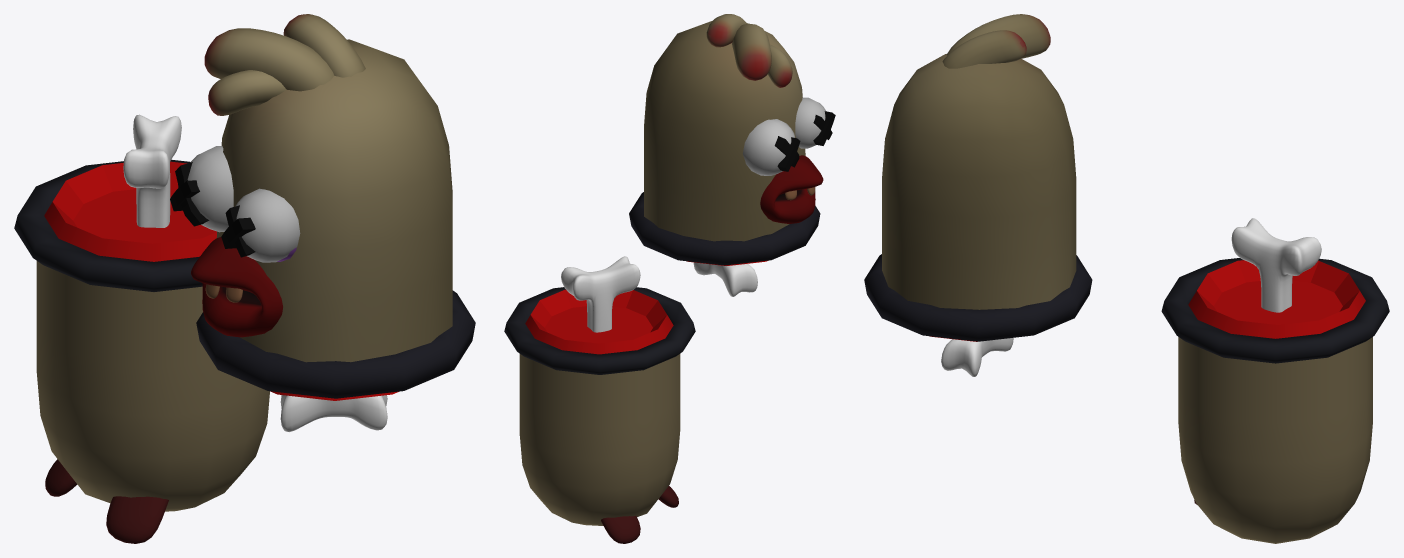
Rendered from msh_Item_Kura.FBX.
The picture shows the model from 3 angles, left to right: view 1: azimuth 30°, elevation 25°; view 2: azimuth 150°, elevation 25°; view 3: azimuth 270°, elevation 25°; orthographic projection. The views are drawn at different scales.
Visible parts, largest first — view 1: msh_KuraTop, msh_KuraBot; view 2: msh_KuraTop, msh_KuraBot; view 3: msh_KuraTop, msh_KuraBot.
Part boxes in pixels (x1,y1,x2,y2): msh_KuraTop: (170, 14, 475, 432); msh_KuraBot: (14, 114, 269, 543); msh_KuraTop: (629, 14, 835, 296); msh_KuraBot: (504, 256, 695, 543); msh_KuraTop: (864, 14, 1092, 376); msh_KuraBot: (1161, 218, 1389, 543).
Size of the model in its own units: 45.49 by 100 by 95.98.
